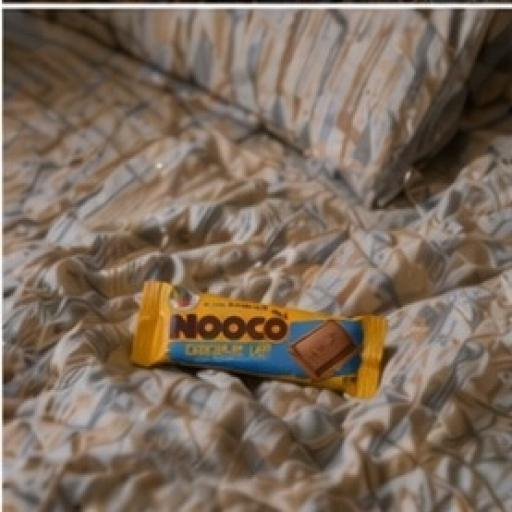nooco: (127, 249, 396, 420)
